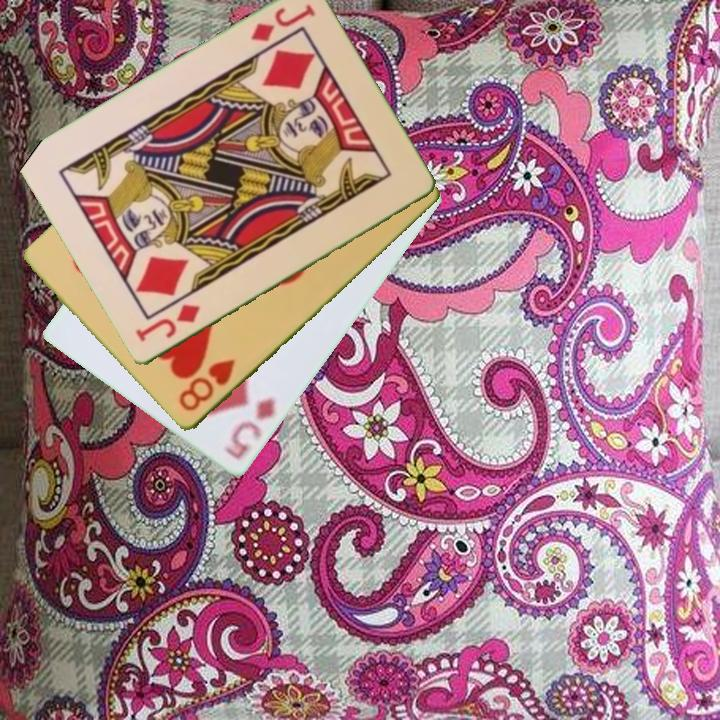5d: (219, 394, 279, 463)
8h: (175, 356, 238, 415)
Jd: (131, 300, 203, 346), (246, 1, 318, 46)
